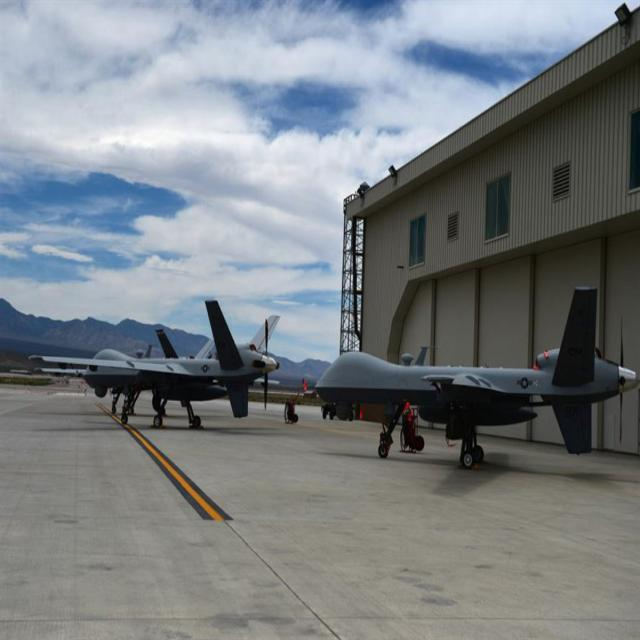MIL_Plane: (314, 286, 640, 468), (28, 298, 281, 428), (33, 327, 280, 416)
